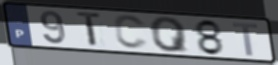8: (193, 17, 226, 57)
9: (38, 10, 67, 45)
C: (112, 14, 150, 51)
Q: (148, 16, 192, 54)
T: (230, 21, 261, 58), (75, 10, 104, 49)
